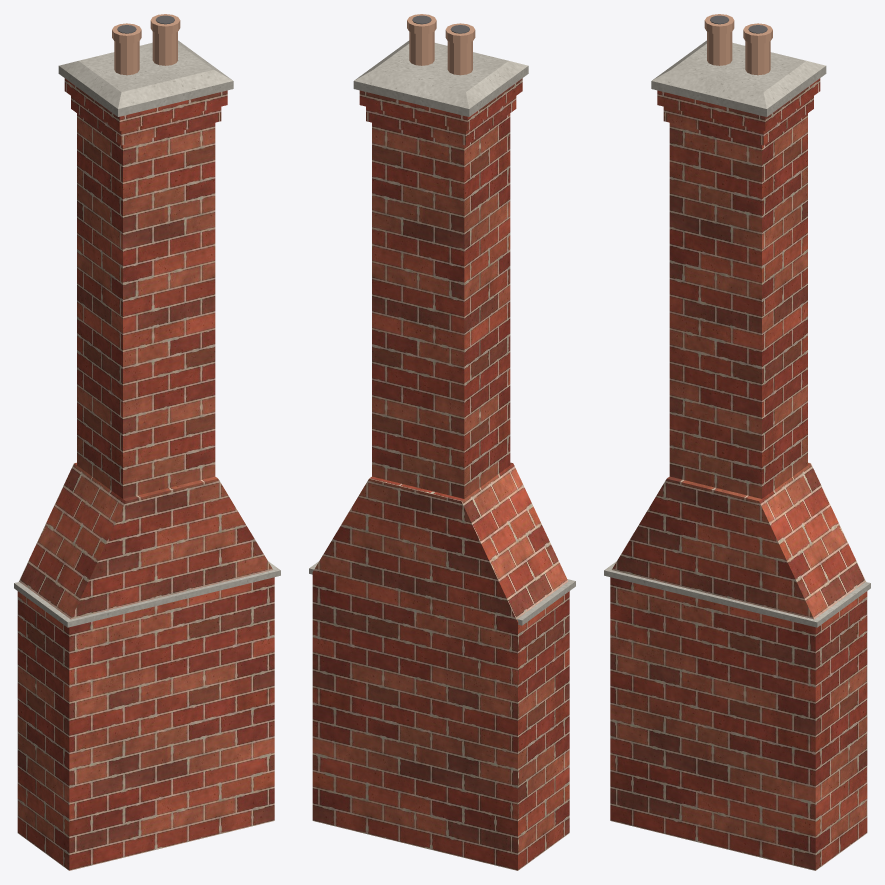
Rendered from chimney.glb.
The picture shows the model from 3 angles, left to right: view 1: azimuth 30°, elevation 25°; view 2: azimuth 150°, elevation 25°; view 3: azimuth 330°, elevation 25°; orthographic projection.
Parts seen in each view (by area): view 1: chimney_brick, chimney_cap, chimney_clay; view 2: chimney_brick, chimney_cap, chimney_clay; view 3: chimney_brick, chimney_cap, chimney_clay.
Part boxes in pixels (left/top/right/bottom): chimney_brick: left=17, top=78, right=274, bottom=870; chimney_cap: left=14, top=40, right=280, bottom=627; chimney_clay: left=112, top=14, right=180, bottom=75; chimney_brick: left=312, top=78, right=569, bottom=870; chimney_cap: left=309, top=40, right=575, bottom=625; chimney_clay: left=407, top=14, right=475, bottom=75; chimney_brick: left=610, top=78, right=867, bottom=870; chimney_cap: left=604, top=40, right=870, bottom=627; chimney_clay: left=704, top=14, right=772, bottom=75.
Size of the model in its own units: 1.66 by 5.97 by 0.8.
Materials: 4 (2 with a texture image).
